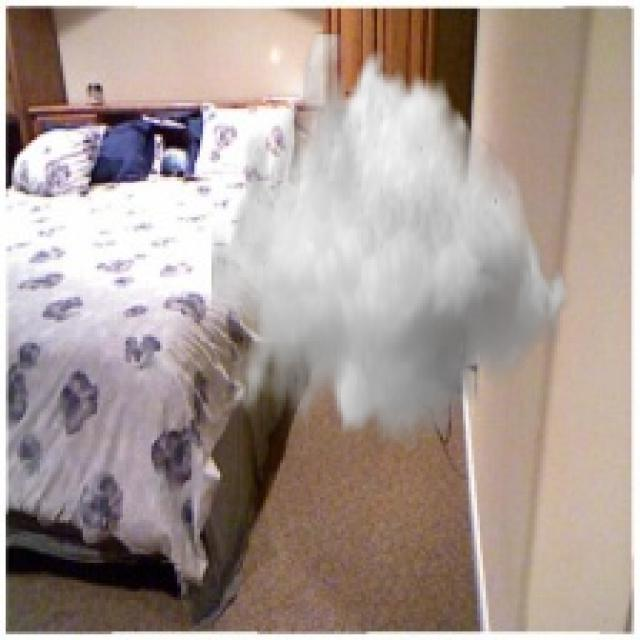smoke: (212, 31, 577, 452)
